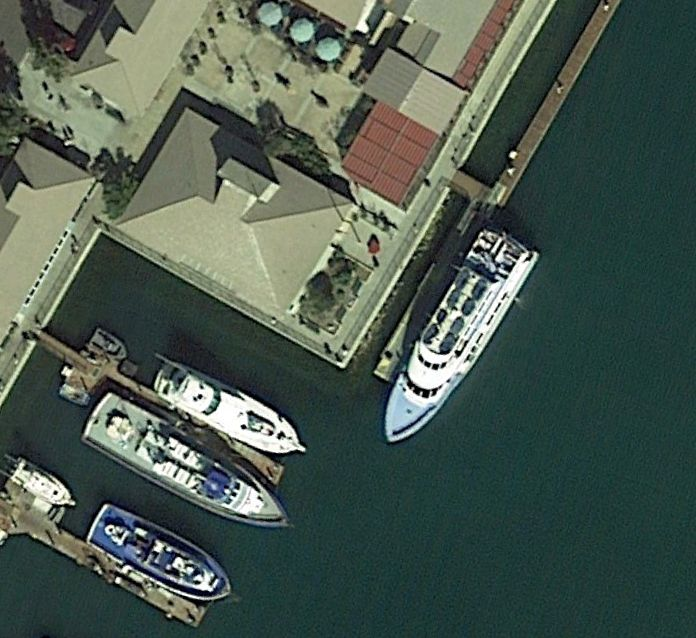boat: (378, 224, 545, 446), (78, 389, 292, 531), (149, 360, 309, 457), (87, 502, 233, 605), (7, 453, 80, 511)
